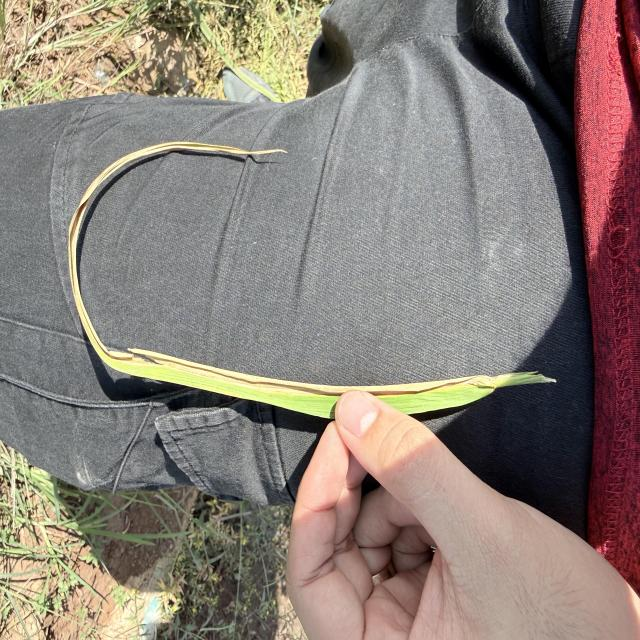Chay bia la: (68, 140, 513, 397)
